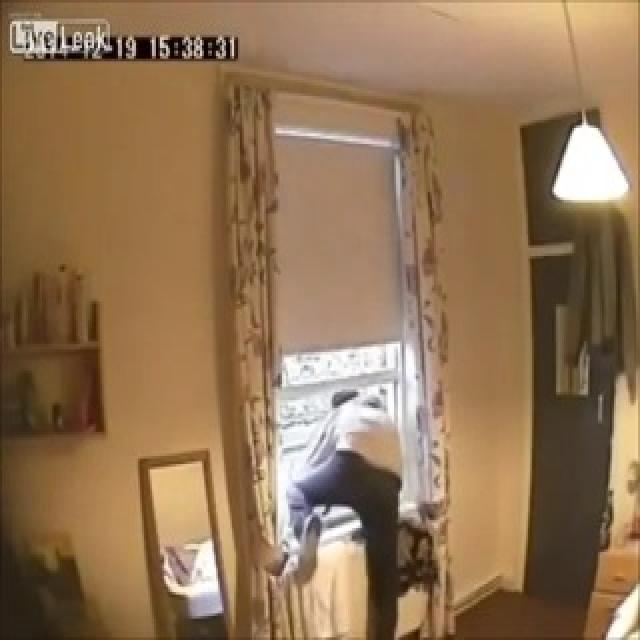thief: (306, 380, 408, 500)
